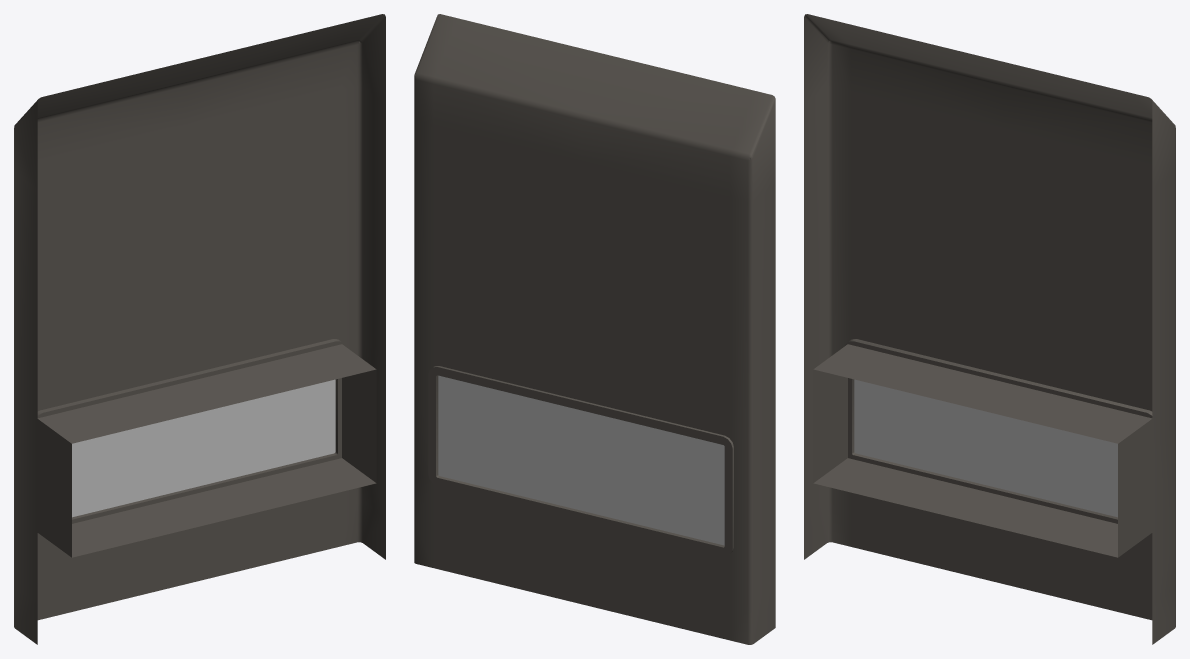
The model's file is lab_windowpillar.dae.
3 views of the same model, side by side, from view 1: azimuth 30°, elevation 25°; view 2: azimuth 150°, elevation 25°; view 3: azimuth 330°, elevation 25° (orthographic). The views are drawn at different scales.
Parts seen in each view (by area): view 1: lab_windowpillar, glass__2_; view 2: lab_windowpillar, glass__2_; view 3: lab_windowpillar, glass__2_.
Boxes of the visible parts, box(x1,y1,x2,y2) form: lab_windowpillar: box(14, 14, 385, 644); glass__2_: box(72, 379, 335, 517); lab_windowpillar: box(414, 14, 775, 644); glass__2_: box(438, 375, 724, 545); lab_windowpillar: box(804, 14, 1175, 644); glass__2_: box(854, 379, 1117, 517).
Size of the model in its own units: 4 by 6 by 0.7812.
